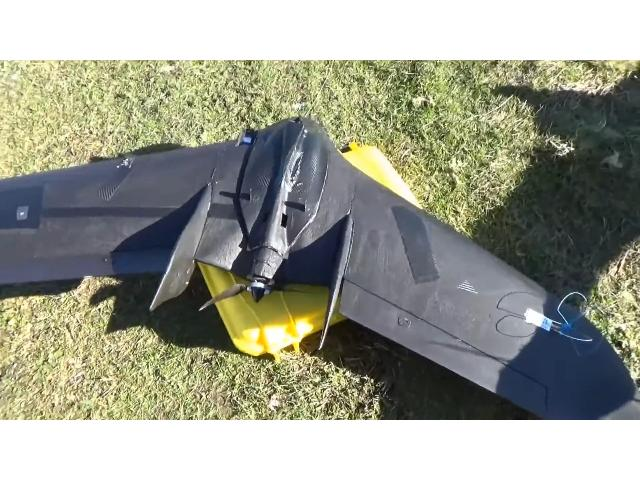Anti-Drone: (0, 96, 640, 420)
